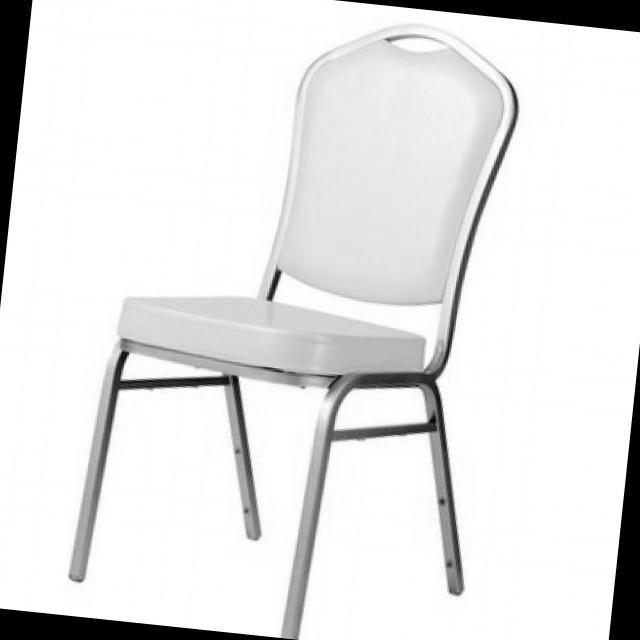chair: (58, 0, 522, 640)
